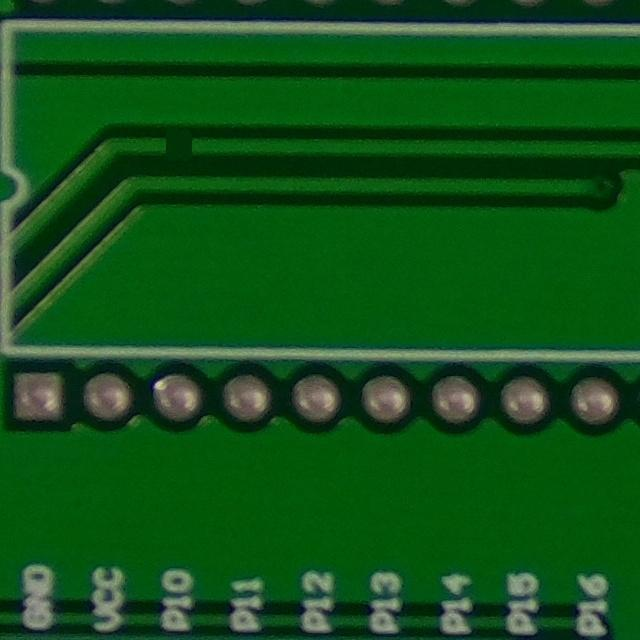open_circuit: (156, 127, 205, 163)
